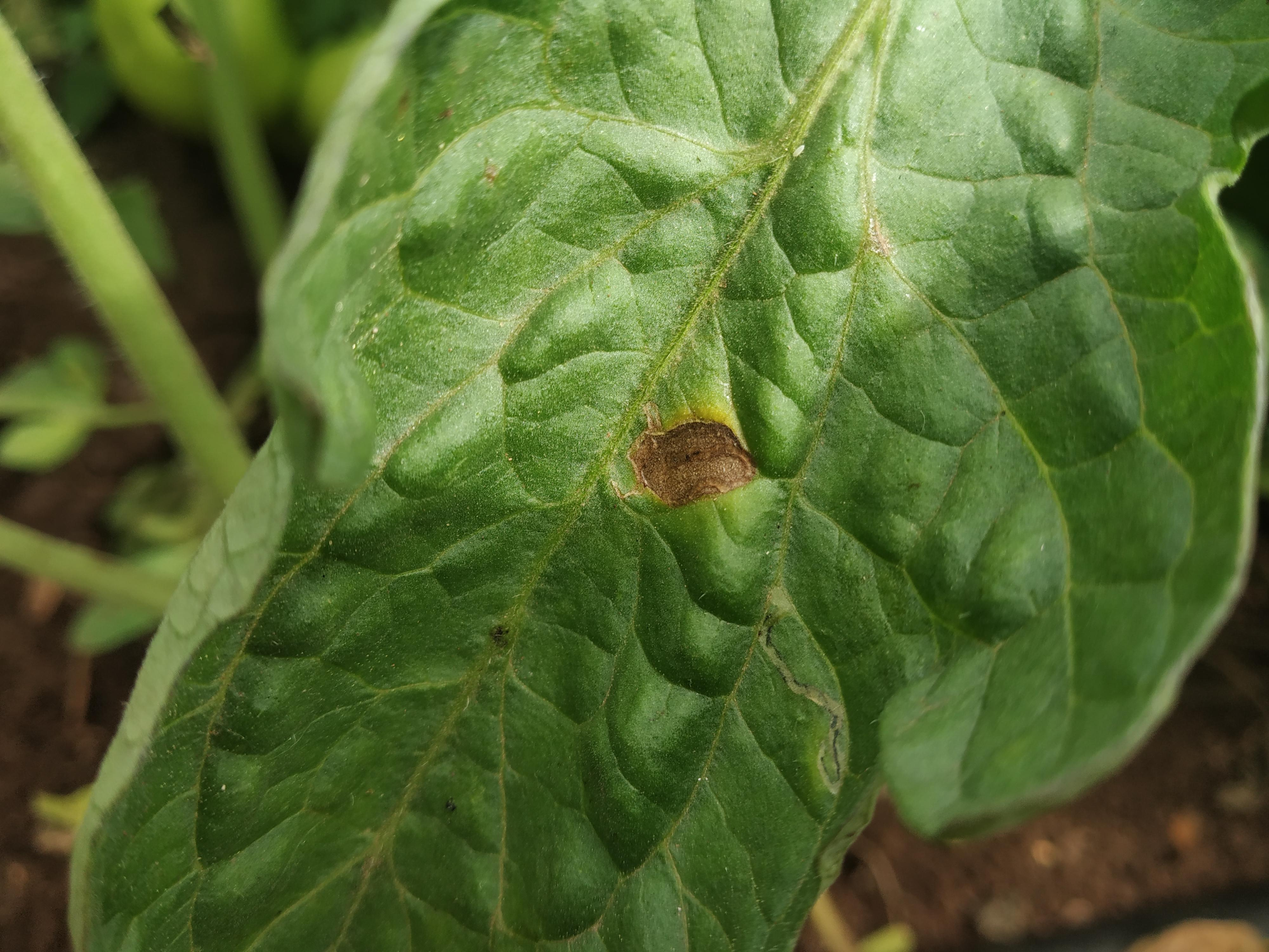Early Blight: (53, 0, 1269, 952)
